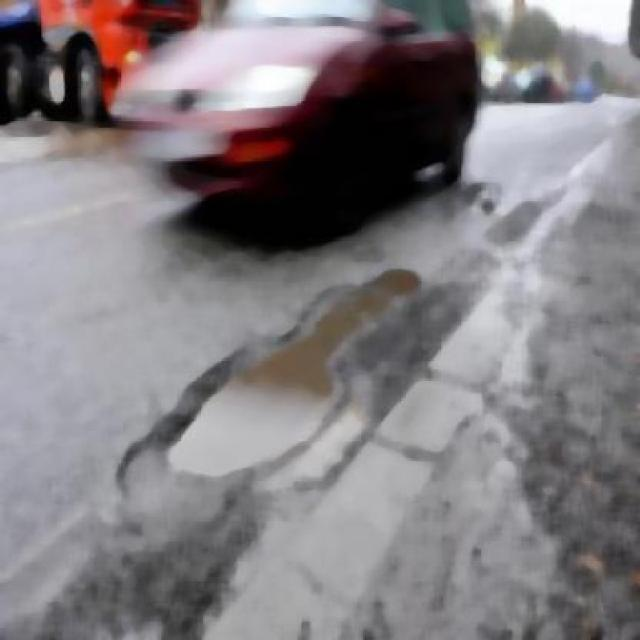Pothole: (148, 291, 366, 503)
